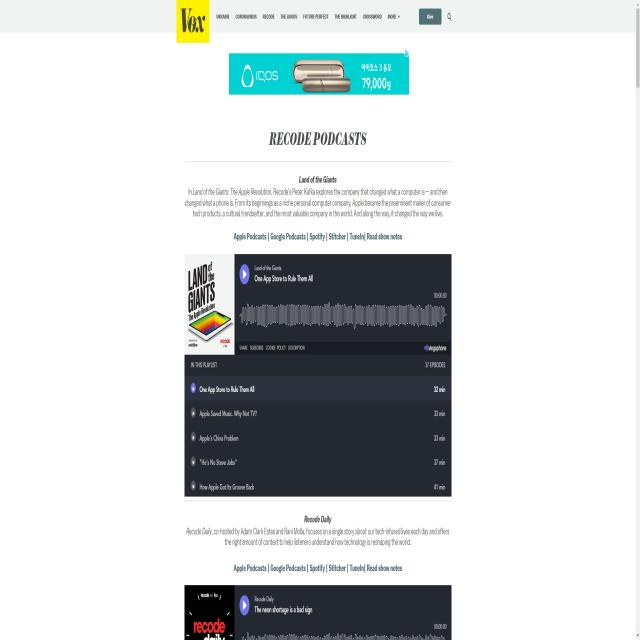menu-bar: (416, 4, 456, 31)
tab-bar: (212, 1, 408, 29), (230, 220, 404, 243), (232, 559, 405, 580)
